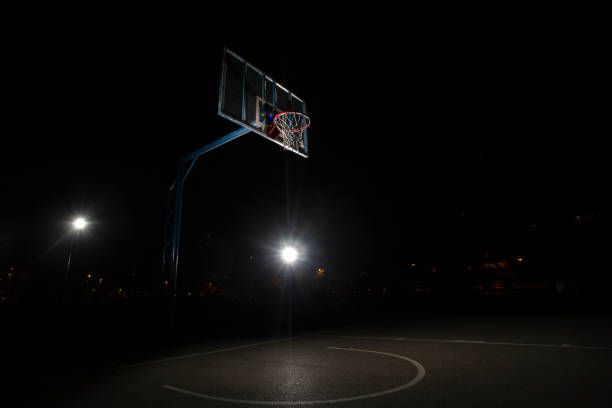basket: (274, 105, 320, 170)
